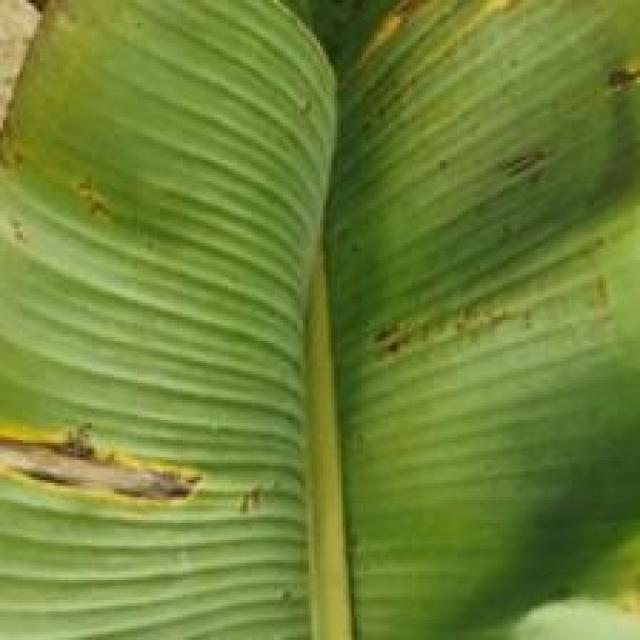Downey_mildrew: (3, 376, 290, 565), (3, 2, 152, 242), (369, 250, 636, 374), (316, 0, 534, 80), (499, 120, 588, 221), (576, 44, 640, 110)
